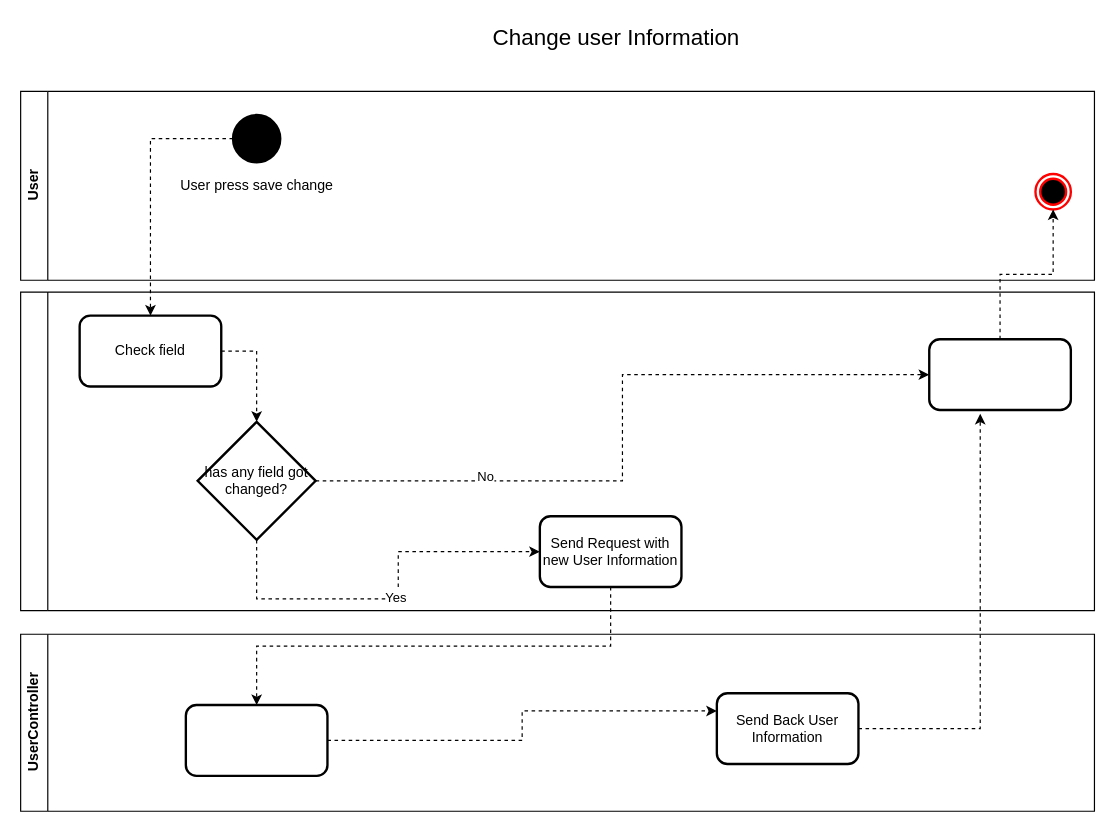
Image size: 1115x832. Some labels were removed from this diagram. The shapes that lost their labels are listed below. From the top down, each one's box as (x1, y1, x2, y2) in pixels, then its label:
(927, 337, 1071, 411): Display User Information
(19, 291, 1094, 611): ProfileController
(184, 703, 328, 776): Update User information in DB
